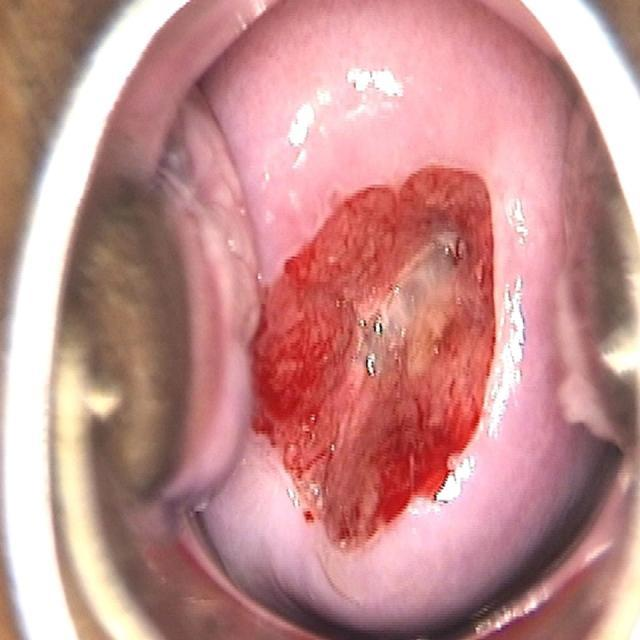cervical_lesion: (211, 41, 561, 576)
